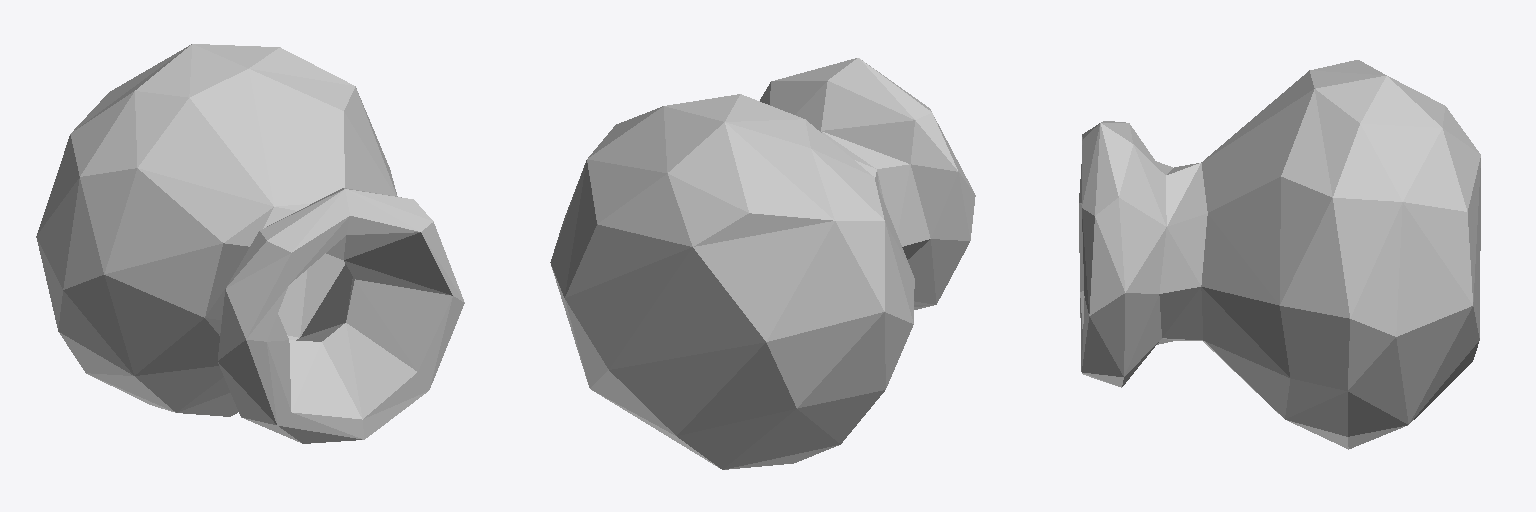
File: Vase04.obj
The picture shows the model from 3 angles: view 1: azimuth 30°, elevation 25°; view 2: azimuth 150°, elevation 25°; view 3: azimuth 270°, elevation 25°; orthographic projection.
Parts seen in each view (by area): view 1: Vase_04_Cylinder.008; view 2: Vase_04_Cylinder.008; view 3: Vase_04_Cylinder.008.
Boxes of the visible parts, box(x1,y1,x2,y2) form: Vase_04_Cylinder.008: box(36, 44, 464, 443); Vase_04_Cylinder.008: box(550, 58, 975, 469); Vase_04_Cylinder.008: box(1079, 60, 1480, 449).
Bounding box in the file's own units: 27.28 × 27.02 × 28.07.